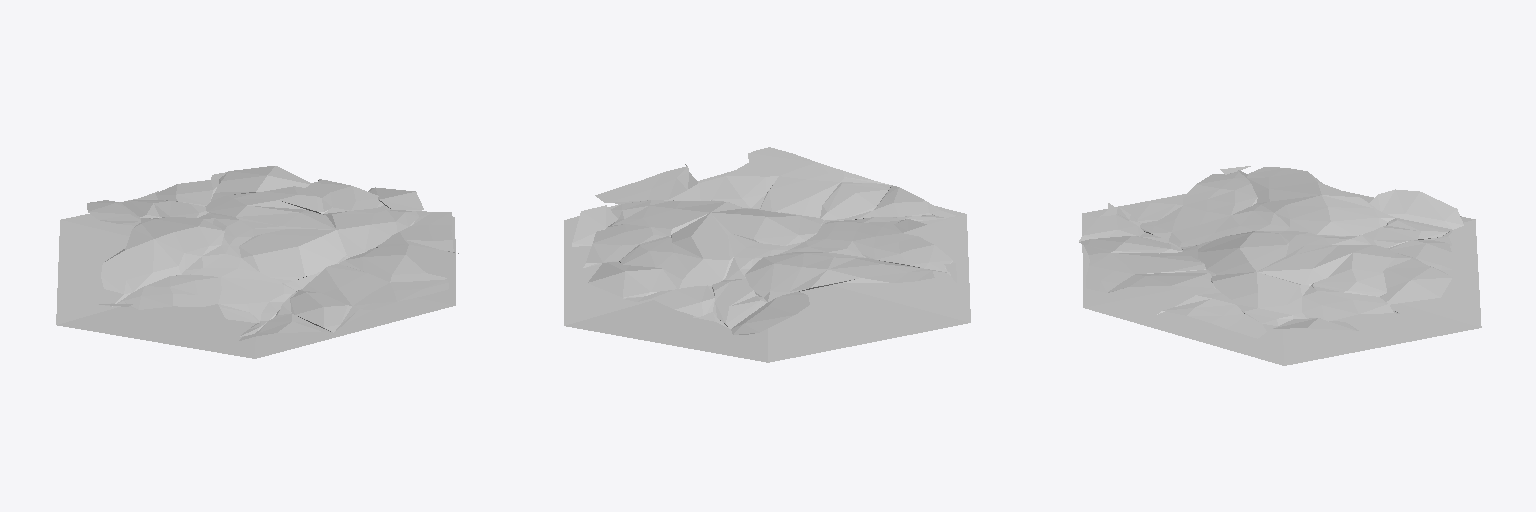
Rendered from water1.obj.
3 renders of one model, left to right at view 1: azimuth 30°, elevation 25°; view 2: azimuth 150°, elevation 25°; view 3: azimuth 270°, elevation 25°, orthographic.
Parts seen in each view (by area): view 1: Circle.002; view 2: Circle.002; view 3: Circle.002.
Boxes of the visible parts, <box> form: Circle.002: <box>56,166,458,358</box>; Circle.002: <box>564,147,970,362</box>; Circle.002: <box>1079,166,1481,365</box>.
Bounding box in the file's own units: 1.98 × 0.2019 × 1.72.